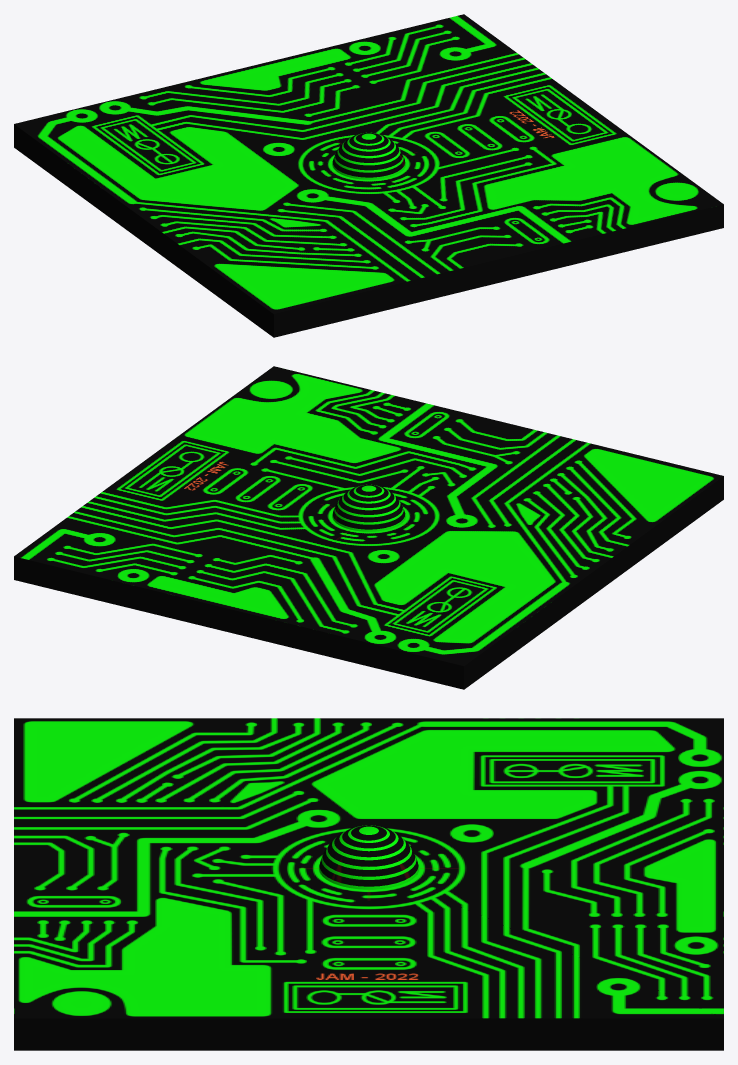
The model's file is SueloInicial.fbx.
3 views of the same model, one above another, from view 1: azimuth 30°, elevation 25°; view 2: azimuth 150°, elevation 25°; view 3: azimuth 270°, elevation 25° (orthographic). The views are drawn at different scales.
Parts seen in each view (by area): view 1: Cubo.002; view 2: Cubo.002; view 3: Cubo.002.
Boxes of the visible parts, x1,y1,x2,y2 form: Cubo.002: (14,14,723,337); Cubo.002: (14,366,723,689); Cubo.002: (14,718,723,1050).
Bounding box in the file's own units: 4000 × 434 × 4000.
